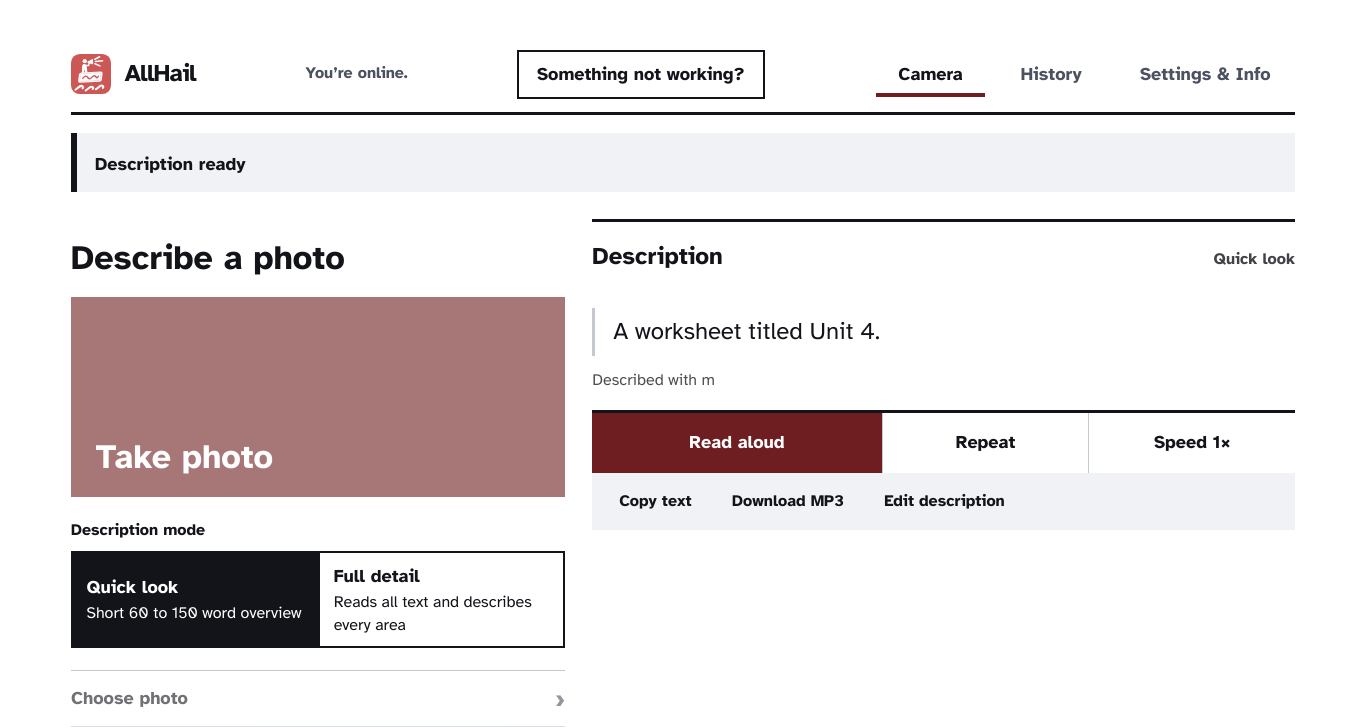
Test: the Page layout of the camera screen › reads a description with one playback bar, and one Speed button that steps through the speeds
Earlier steps of the test are not shown.
Later steps or results of the test are not shown.
Expected: the text "A worksheet titled Unit 4." is shown, [613,316,880,346]
Click the button with aria-label "Speech speed 1 times". click: (1192, 443)
box: [1088,413,1295,473]
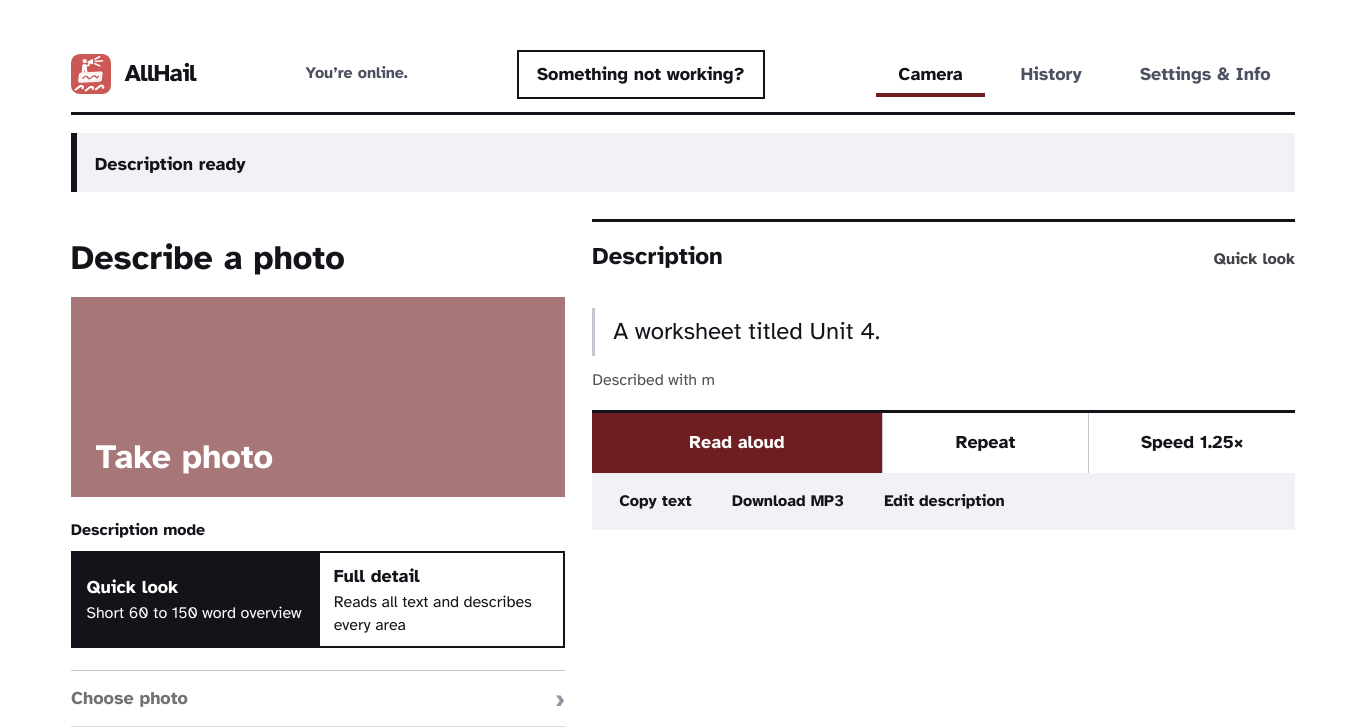
Result: the button with aria-label "Speech speed 1.25 times. Press for 1.5 times." reads "Speed 1.25×" at [1088,413,1295,473]
